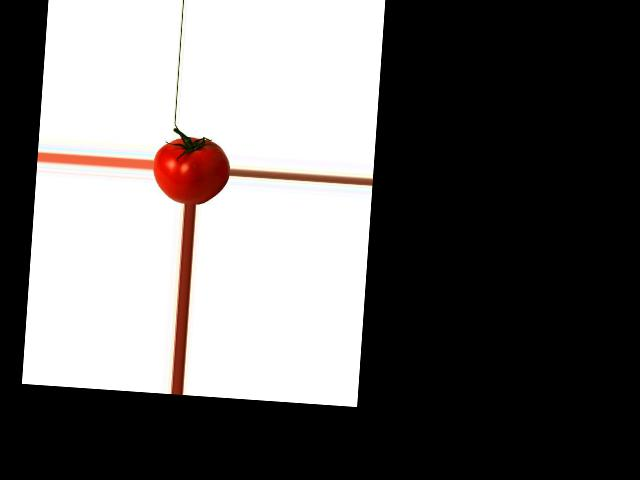tomato: (151, 134, 232, 206)
